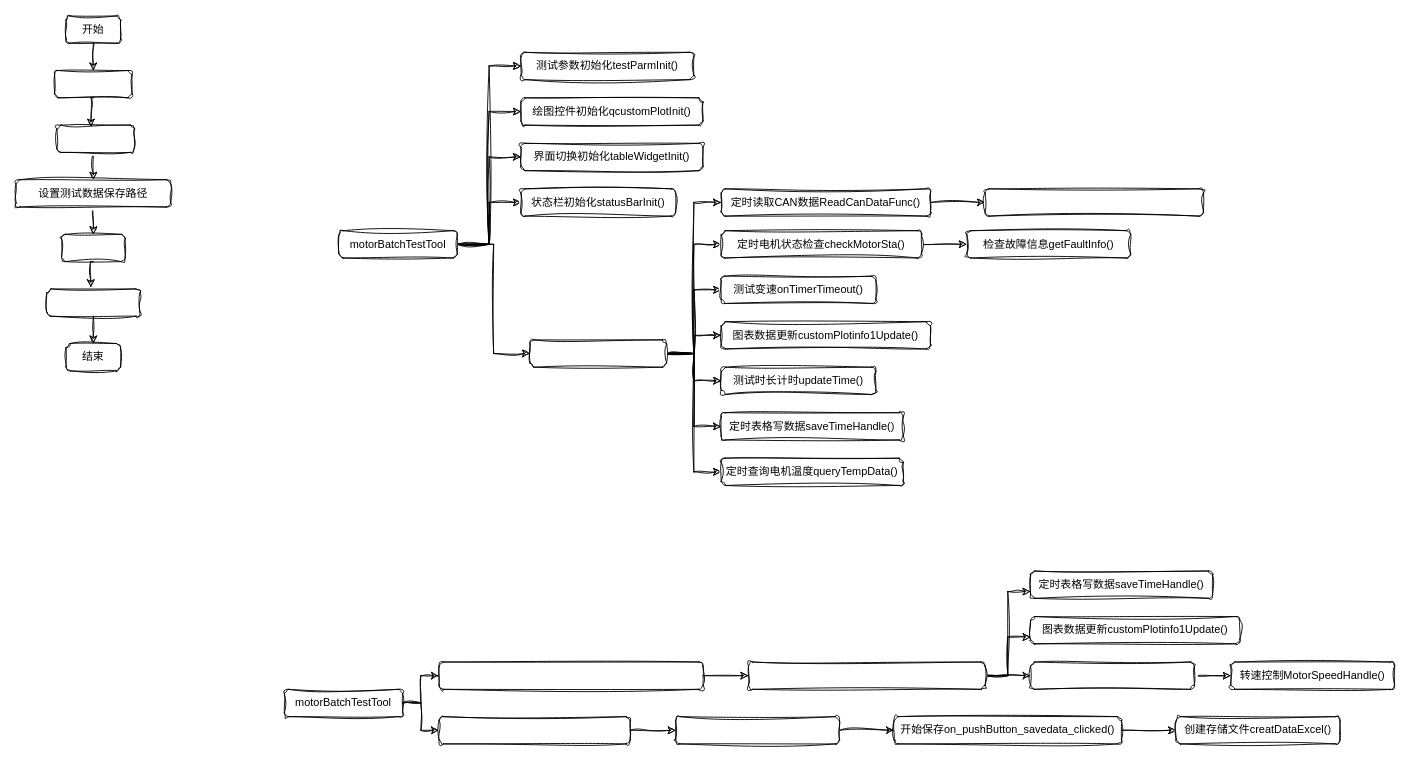
Some shapes in this 1411 by 760 pixel diagram are drawn without their labels. The centre of each missing label's shape, as x and y in pixels:
"CAN连接" belongs at point (93, 84).
"创建存储目录saveTestData()" belongs at point (757, 730).
"存储路径选择on_opendir_clicked()" belongs at point (534, 730).
"定时器初始化timerInit()" belongs at point (598, 353).
"开始测试" belongs at point (93, 247).
"开始测试on_pushButton_starttest_clicked()" belongs at point (866, 675).
"接收CAN数据解析dataAnalysis_can()" belongs at point (1093, 202).
"数据实时图表显示" belongs at point (93, 302).
"测试参数配置" belongs at point (95, 138).
"测试转速计算onTimerTimeout()" belongs at point (1112, 675).
"测试项配置 on_pushButton_makecfg_clicked()" belongs at point (570, 675).
